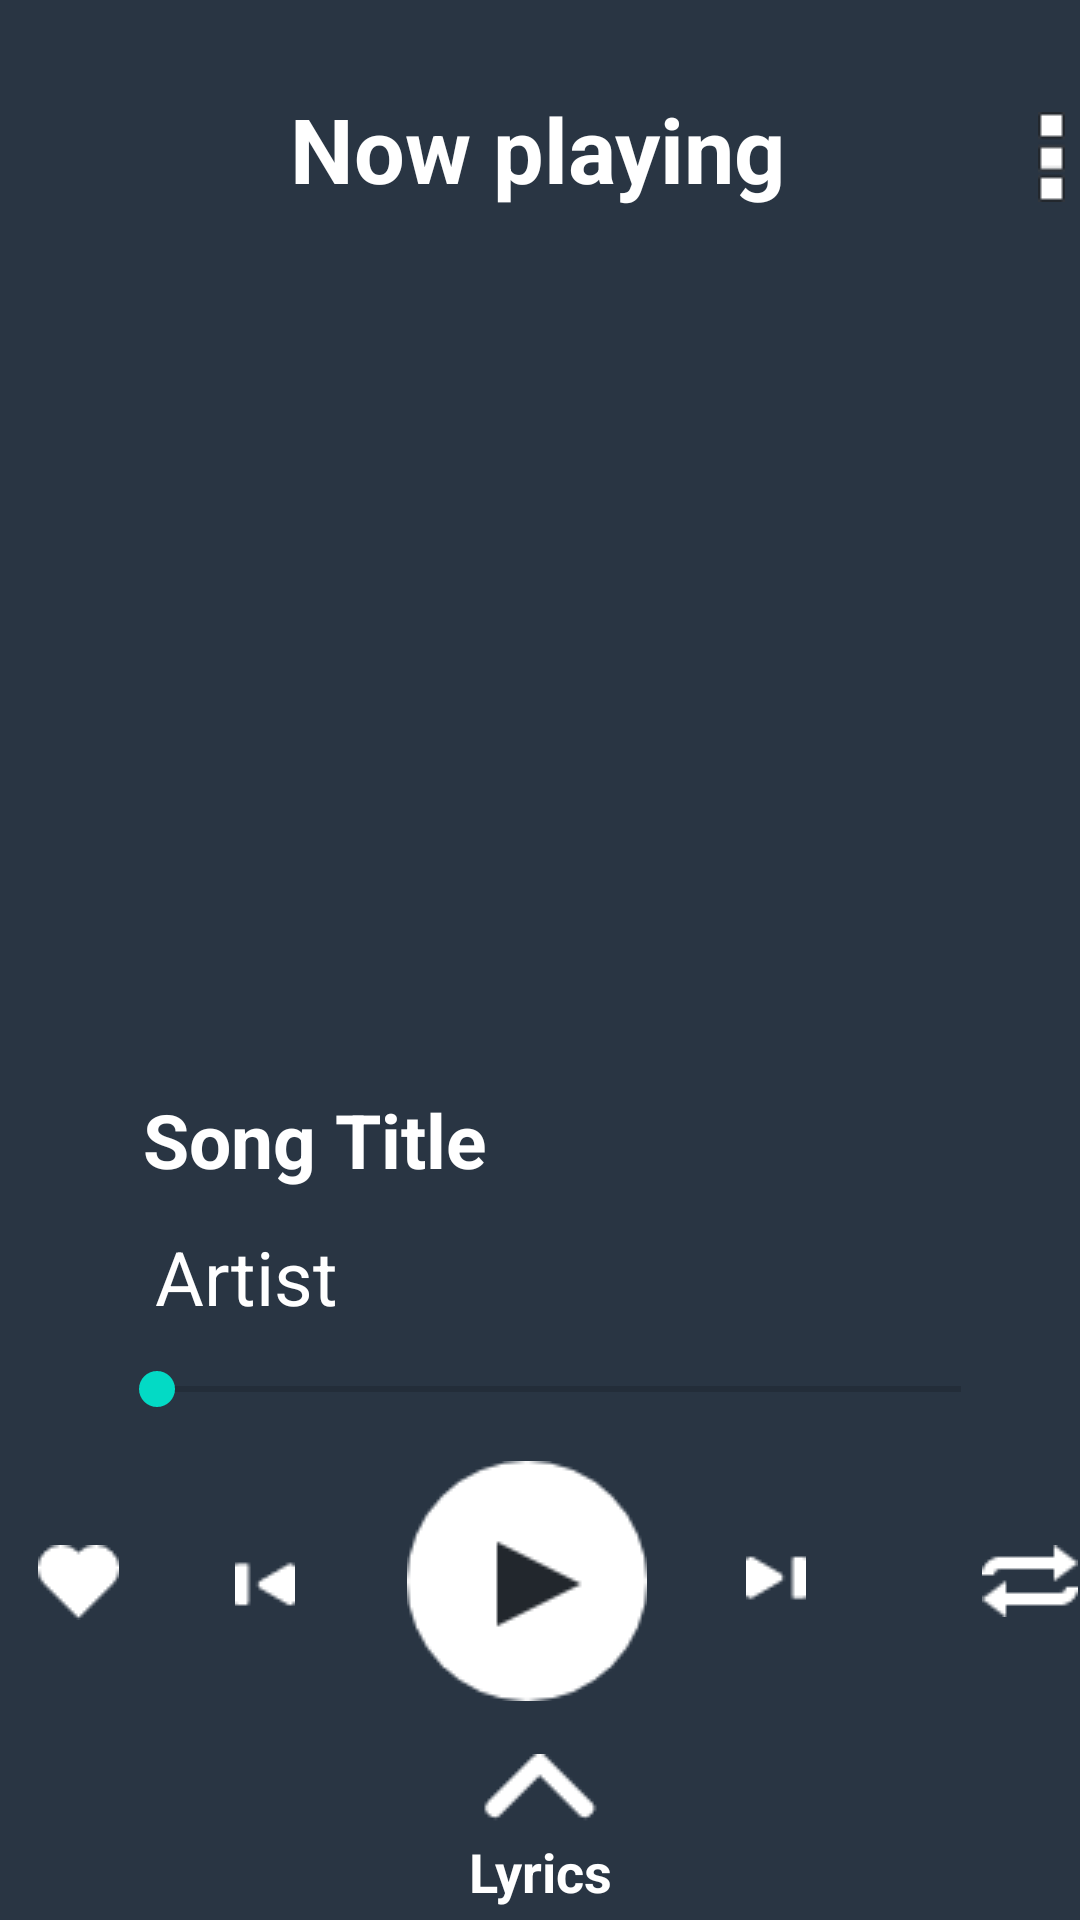

Named icons in this screenshot (1080px×1920px) and their centers, [x,y]:
arrow: [540,1786]
back: [265,1584]
heartbutton: [78,1582]
next: [776,1578]
play: [527,1581]
threedots: [1051,157]
